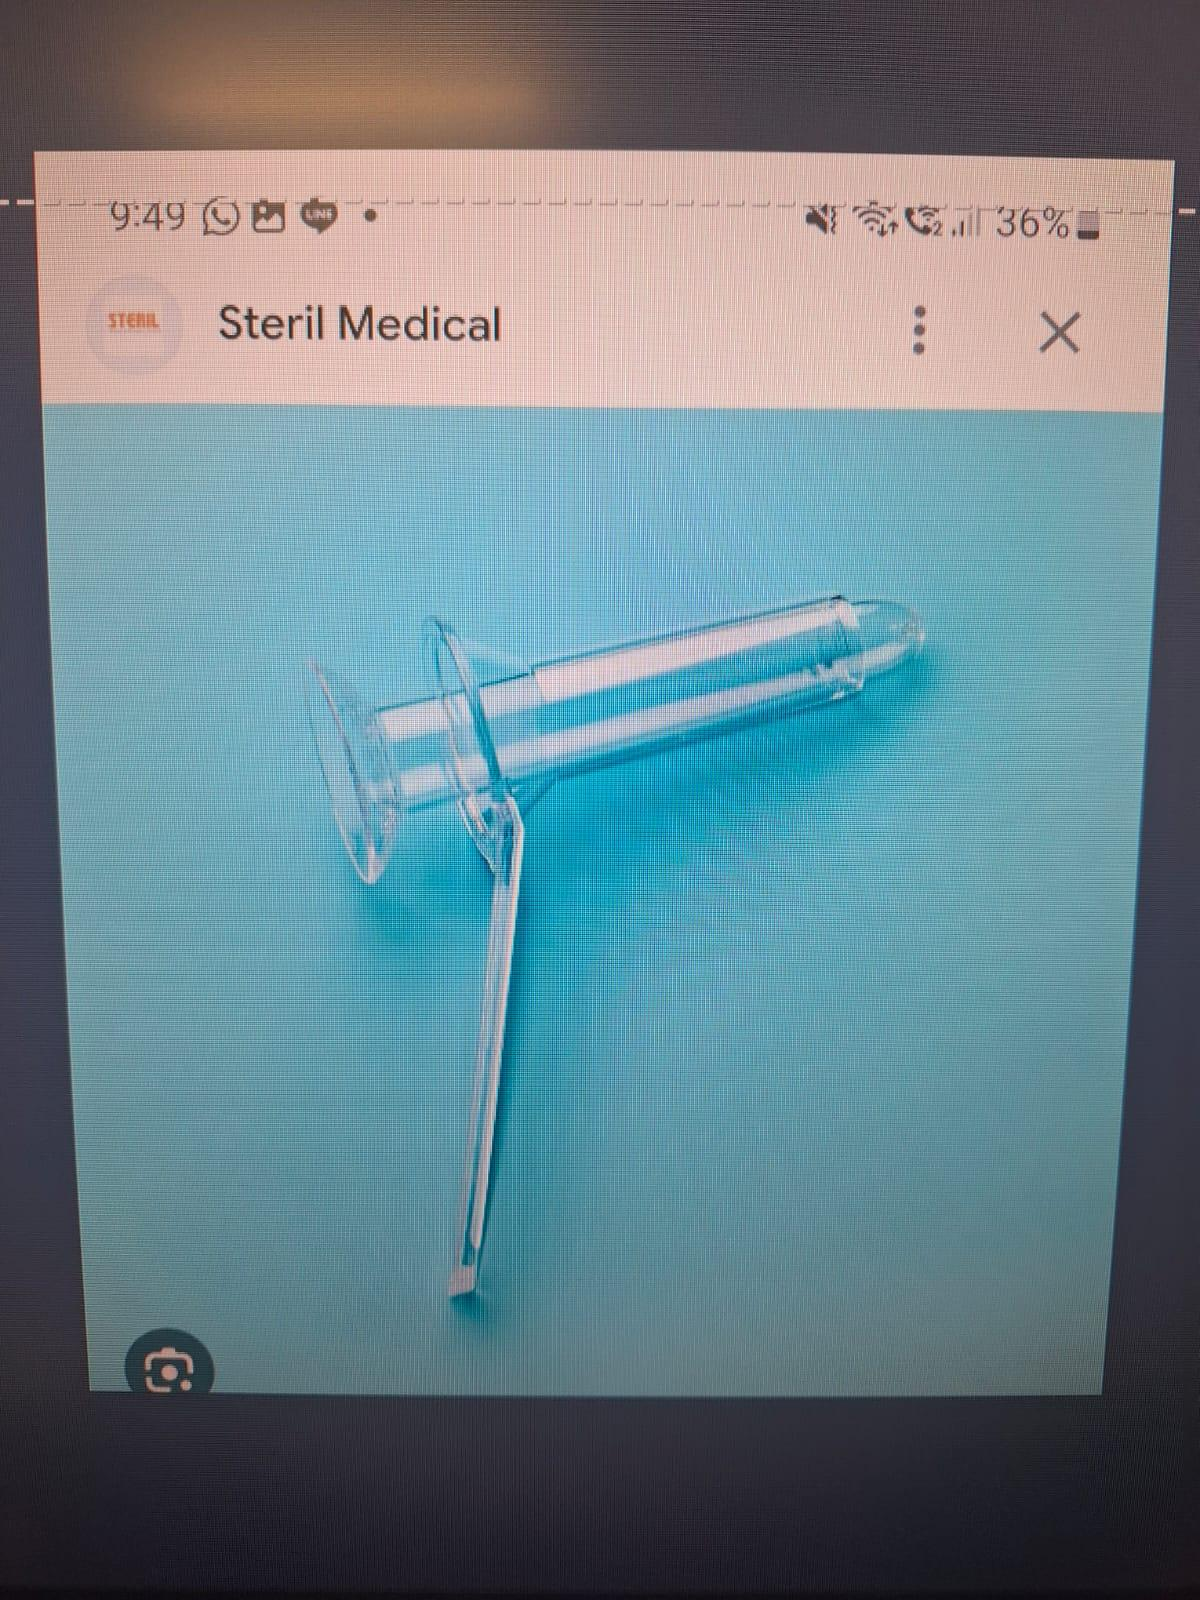Protoscope: (282, 582, 938, 1348)
